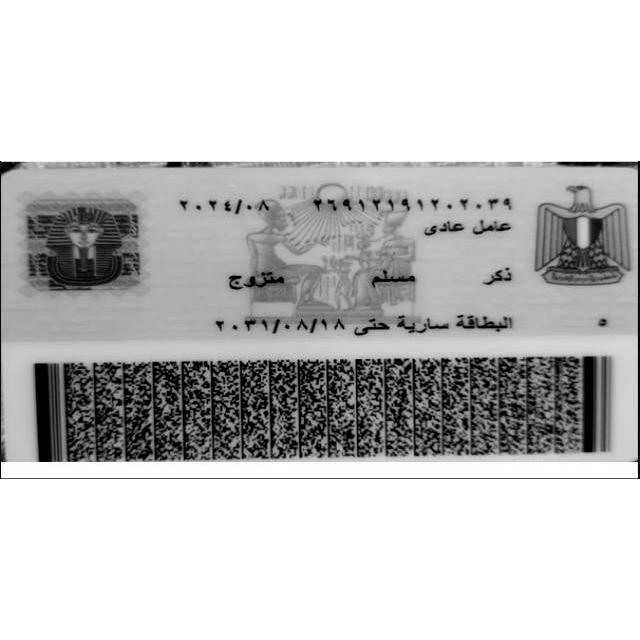id_card: (0, 168, 639, 461)
